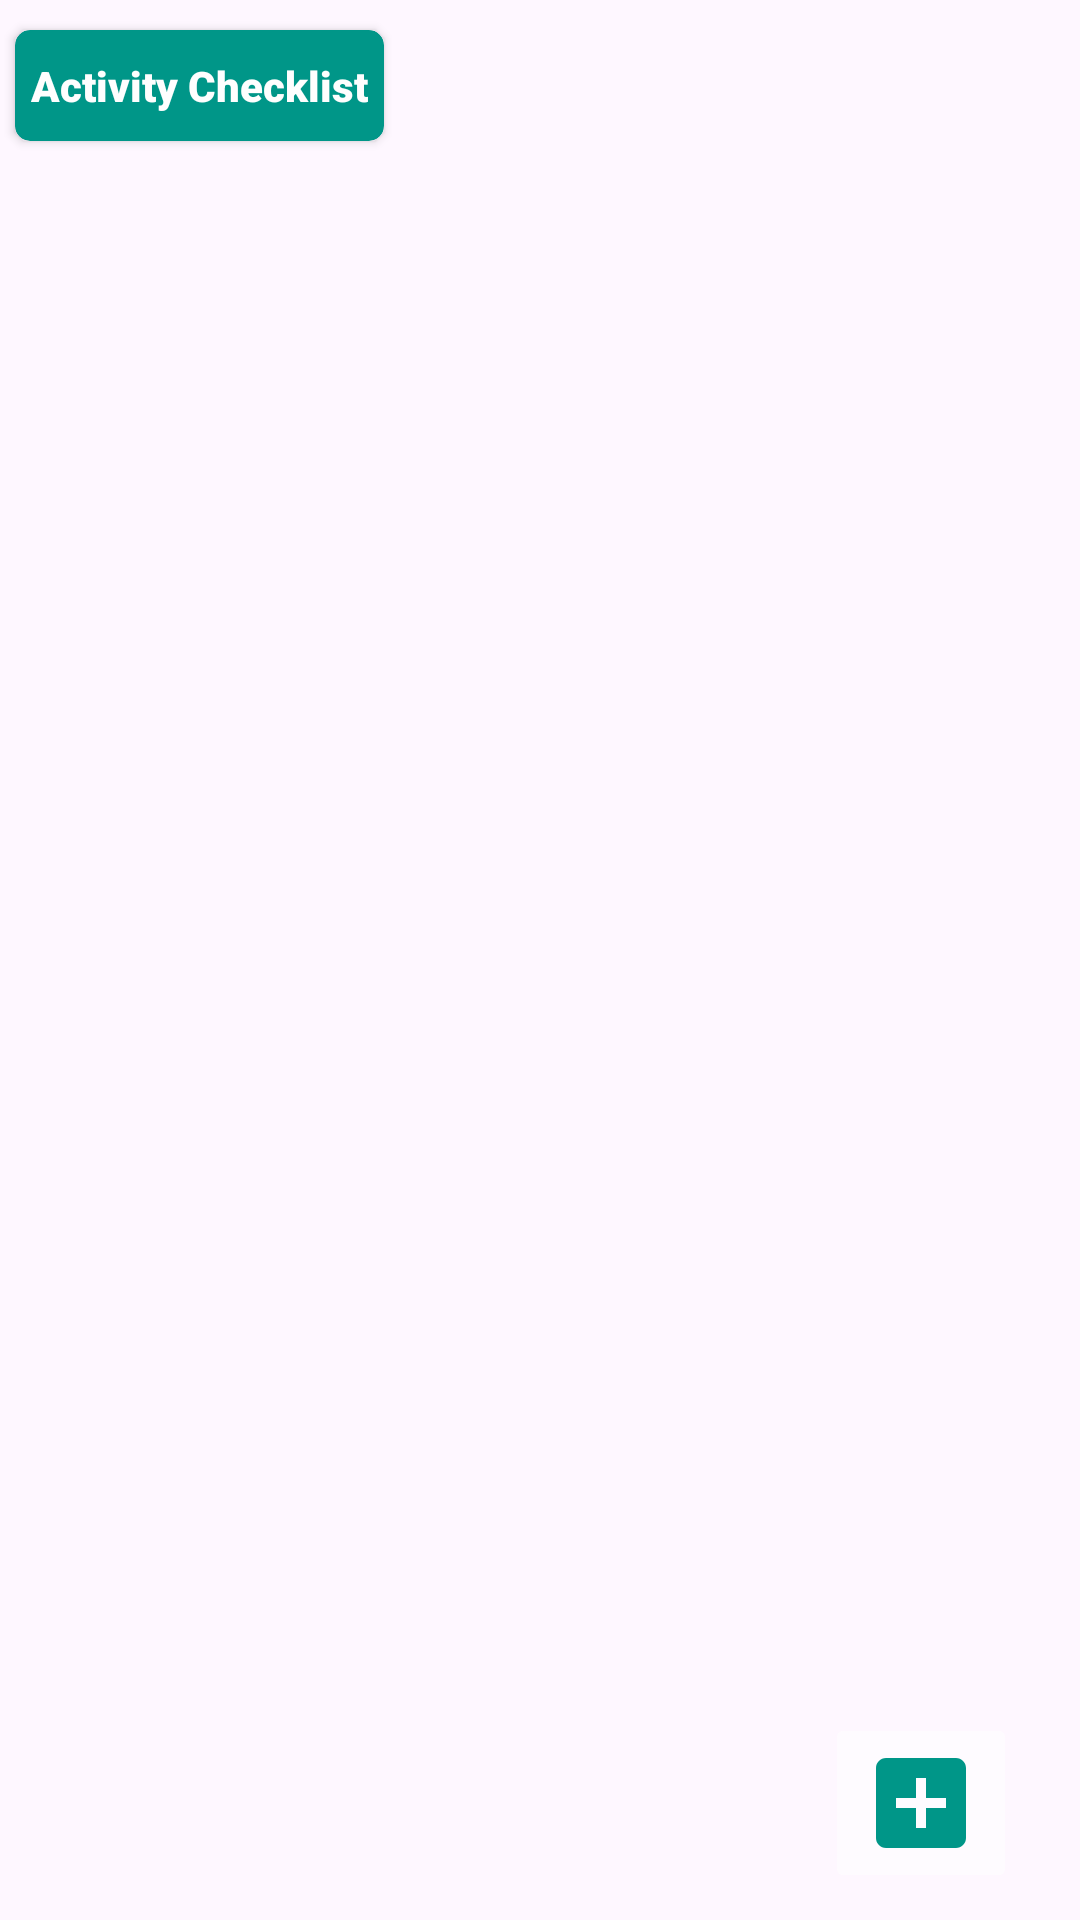

Named icons in this screenshot (1080*1920) and their centers, (x=x, y=y):
add box: (x=921, y=1803)
